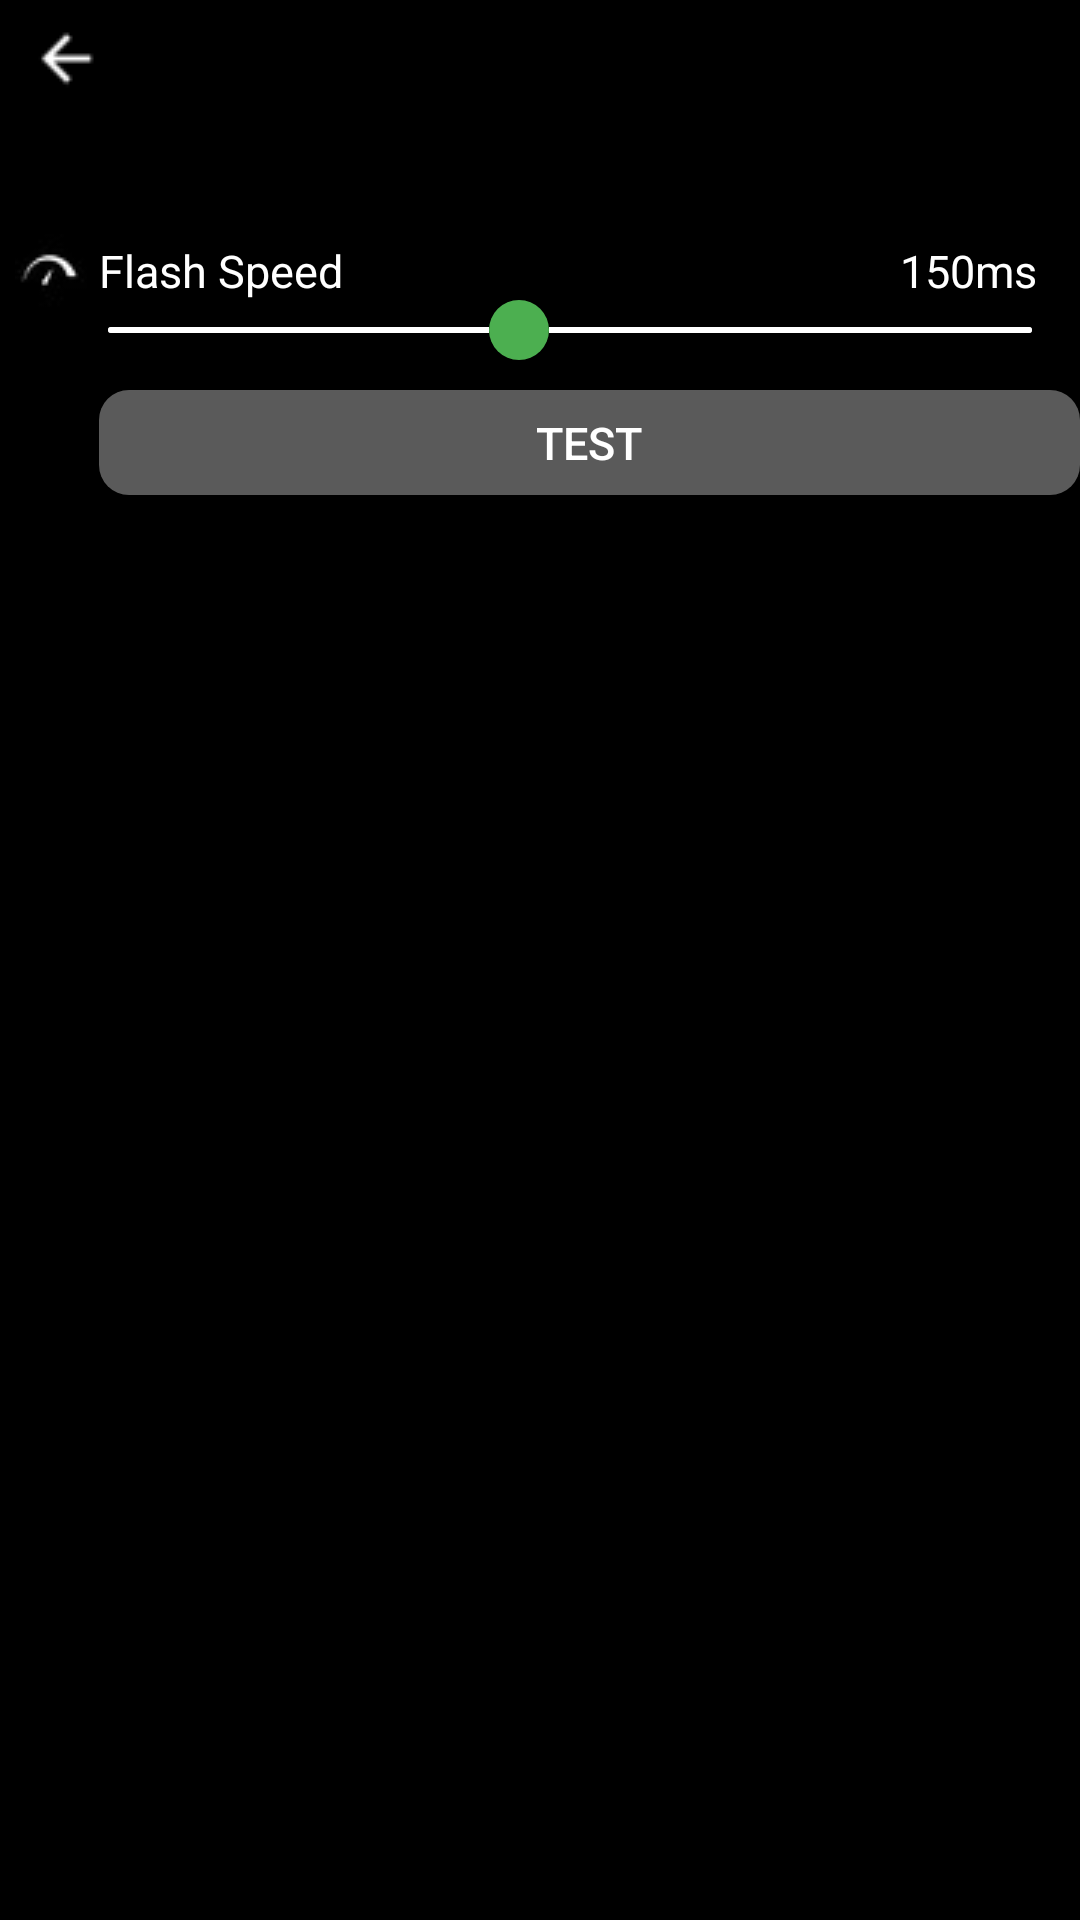

Icon click points for this 1080x1920 phone screenshot, format [x,y]:
arrow: [67,58]
